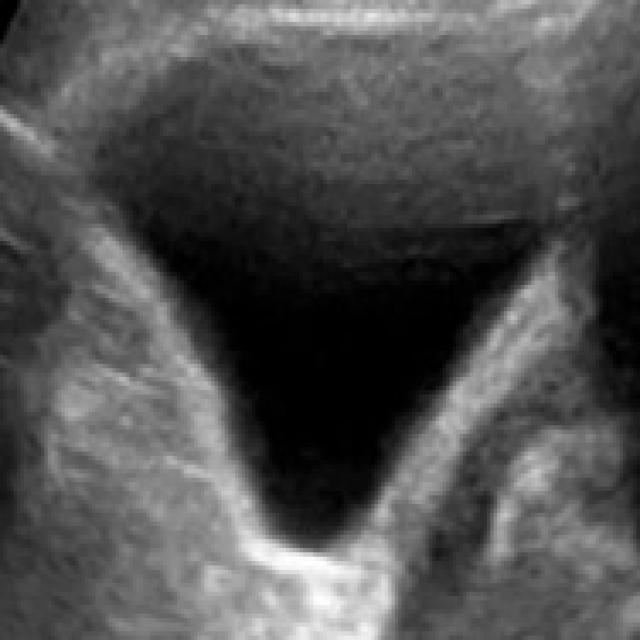bladder: (48, 9, 590, 597)
